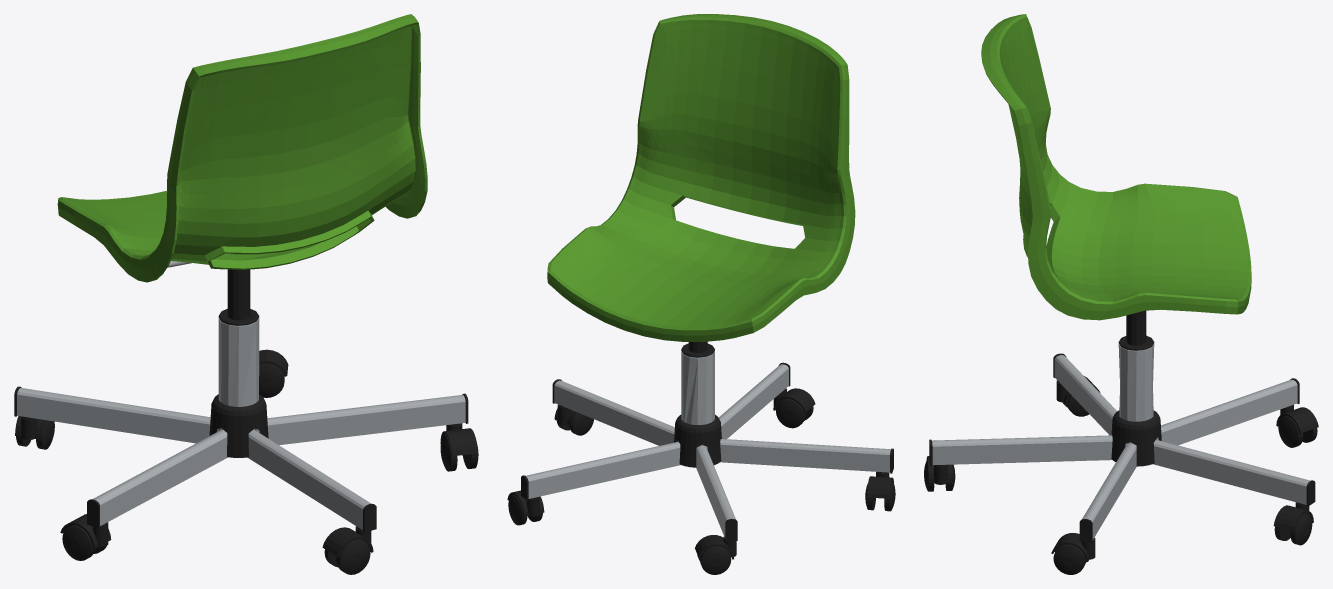
3 views of the same model, side by side, from view 1: azimuth 30°, elevation 25°; view 2: azimuth 150°, elevation 25°; view 3: azimuth 270°, elevation 25° (orthographic). The views are drawn at different scales.
Parts seen in each view (by area): view 1: Mesh2 Group2 SNILLE_IKEA1 Model, Mesh8 Group6 SNILLE_IKEA1 Model, Mesh7 Group5 SNILLE_IKEA1 Model, Mesh1 Group1 SNILLE_IKEA1 Model, Mesh3 Group3 SNILLE_IKEA1 Model, Mesh14 ROULETTE2 SNILLE_IKEA1 Model, Mesh15 ROULETTE3 SNILLE_IKEA1 Model, Mesh20 ROULETTE4 SNILLE_IKEA1 Model, Mesh12 ROULETTE2 SNILLE_IKEA1 Model, Mesh22 ROULETTE5 SNILLE_IKEA1 Model, Mesh18 ROULETTE4 SNILLE_IKEA1 Model, Mesh9 ROULETTE1 SNILLE_IKEA1 Model; view 2: Mesh2 Group2 SNILLE_IKEA1 Model, Mesh8 Group6 SNILLE_IKEA1 Model, Mesh7 Group5 SNILLE_IKEA1 Model, Mesh1 Group1 SNILLE_IKEA1 Model, Mesh11 ROULETTE1 SNILLE_IKEA1 Model, Mesh13 ROULETTE2 SNILLE_IKEA1 Model, Mesh18 ROULETTE4 SNILLE_IKEA1 Model, Mesh12 ROULETTE2 SNILLE_IKEA1 Model, Mesh9 ROULETTE1 SNILLE_IKEA1 Model; view 3: Mesh2 Group2 SNILLE_IKEA1 Model, Mesh8 Group6 SNILLE_IKEA1 Model, Mesh7 Group5 SNILLE_IKEA1 Model, Mesh1 Group1 SNILLE_IKEA1 Model, Mesh3 Group3 SNILLE_IKEA1 Model, Mesh17 ROULETTE3 SNILLE_IKEA1 Model, Mesh21 ROULETTE5 SNILLE_IKEA1 Model, Mesh9 ROULETTE1 SNILLE_IKEA1 Model, Mesh10 ROULETTE1 SNILLE_IKEA1 Model, Mesh15 ROULETTE3 SNILLE_IKEA1 Model, Mesh23 ROULETTE5 SNILLE_IKEA1 Model.
Boxes of the visible parts, x1,y1,x2,y2 form: Mesh2 Group2 SNILLE_IKEA1 Model: (57, 14, 427, 282); Mesh8 Group6 SNILLE_IKEA1 Model: (14, 386, 468, 532); Mesh7 Group5 SNILLE_IKEA1 Model: (218, 318, 259, 406); Mesh1 Group1 SNILLE_IKEA1 Model: (209, 394, 268, 457); Mesh3 Group3 SNILLE_IKEA1 Model: (218, 269, 259, 325); Mesh14 ROULETTE2 SNILLE_IKEA1 Model: (336, 539, 370, 574); Mesh15 ROULETTE3 SNILLE_IKEA1 Model: (440, 423, 478, 456); Mesh20 ROULETTE4 SNILLE_IKEA1 Model: (62, 525, 94, 560); Mesh12 ROULETTE2 SNILLE_IKEA1 Model: (322, 526, 373, 557); Mesh22 ROULETTE5 SNILLE_IKEA1 Model: (259, 363, 284, 397); Mesh18 ROULETTE4 SNILLE_IKEA1 Model: (60, 514, 111, 548); Mesh9 ROULETTE1 SNILLE_IKEA1 Model: (15, 416, 44, 439); Mesh2 Group2 SNILLE_IKEA1 Model: (547, 14, 855, 341); Mesh8 Group6 SNILLE_IKEA1 Model: (521, 362, 893, 541); Mesh7 Group5 SNILLE_IKEA1 Model: (681, 351, 714, 424); Mesh1 Group1 SNILLE_IKEA1 Model: (674, 414, 721, 467); Mesh11 ROULETTE1 SNILLE_IKEA1 Model: (700, 546, 731, 574); Mesh13 ROULETTE2 SNILLE_IKEA1 Model: (776, 398, 805, 428); Mesh18 ROULETTE4 SNILLE_IKEA1 Model: (866, 471, 893, 498); Mesh12 ROULETTE2 SNILLE_IKEA1 Model: (773, 388, 815, 412); Mesh9 ROULETTE1 SNILLE_IKEA1 Model: (695, 535, 736, 559); Mesh2 Group2 SNILLE_IKEA1 Model: (981, 14, 1251, 320); Mesh8 Group6 SNILLE_IKEA1 Model: (929, 353, 1315, 542); Mesh7 Group5 SNILLE_IKEA1 Model: (1118, 344, 1154, 421); Mesh1 Group1 SNILLE_IKEA1 Model: (1111, 410, 1161, 466); Mesh3 Group3 SNILLE_IKEA1 Model: (1118, 310, 1154, 350); Mesh17 ROULETTE3 SNILLE_IKEA1 Model: (1053, 544, 1085, 574); Mesh21 ROULETTE5 SNILLE_IKEA1 Model: (1273, 502, 1313, 531); Mesh9 ROULETTE1 SNILLE_IKEA1 Model: (1276, 404, 1318, 433); Mesh10 ROULETTE1 SNILLE_IKEA1 Model: (1278, 416, 1303, 447); Mesh15 ROULETTE3 SNILLE_IKEA1 Model: (1051, 533, 1095, 561); Mesh23 ROULETTE5 SNILLE_IKEA1 Model: (1290, 513, 1312, 545).
Size of the model in its own units: 0.5971 by 0.7106 by 0.5769.
